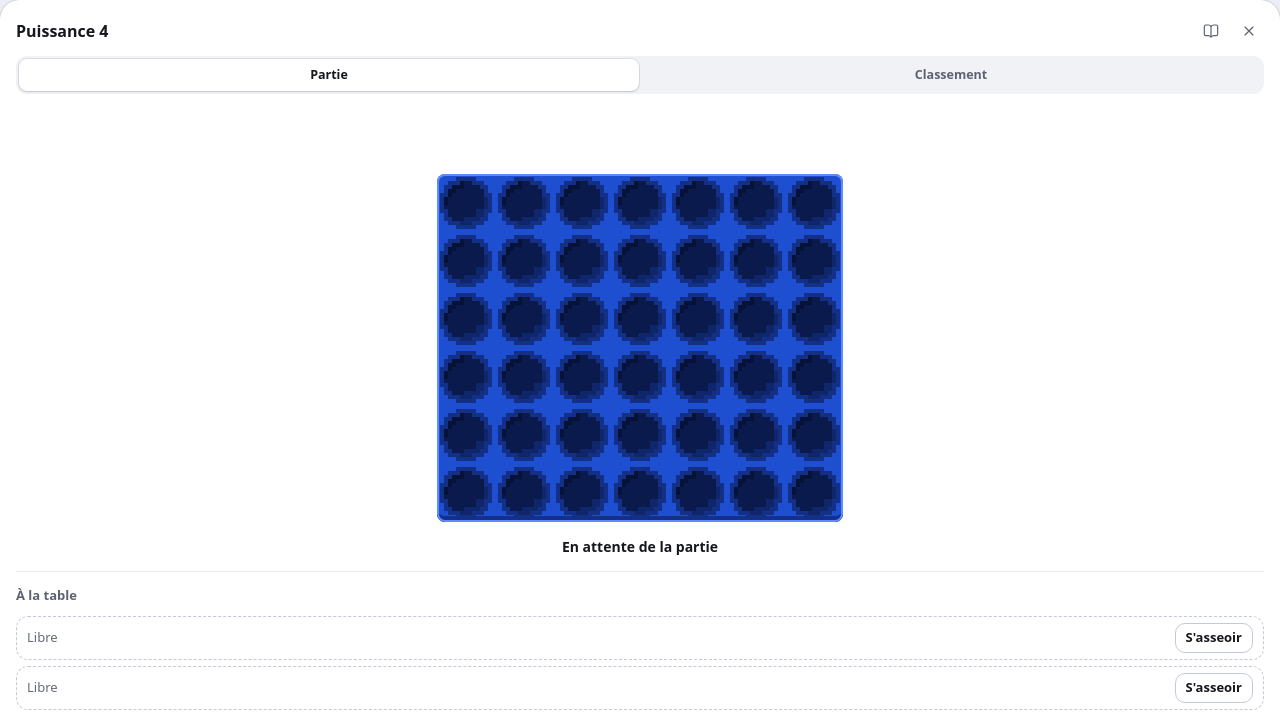
Test: avant la partie › « Règles » ouvre l'aide du Puissance 4, écrite par le jeu
Expected: the element named "Colonnes" is shown, [437,116,843,522]
Click the button named "Règles" at (1211, 31), box [1196,16,1226,46]
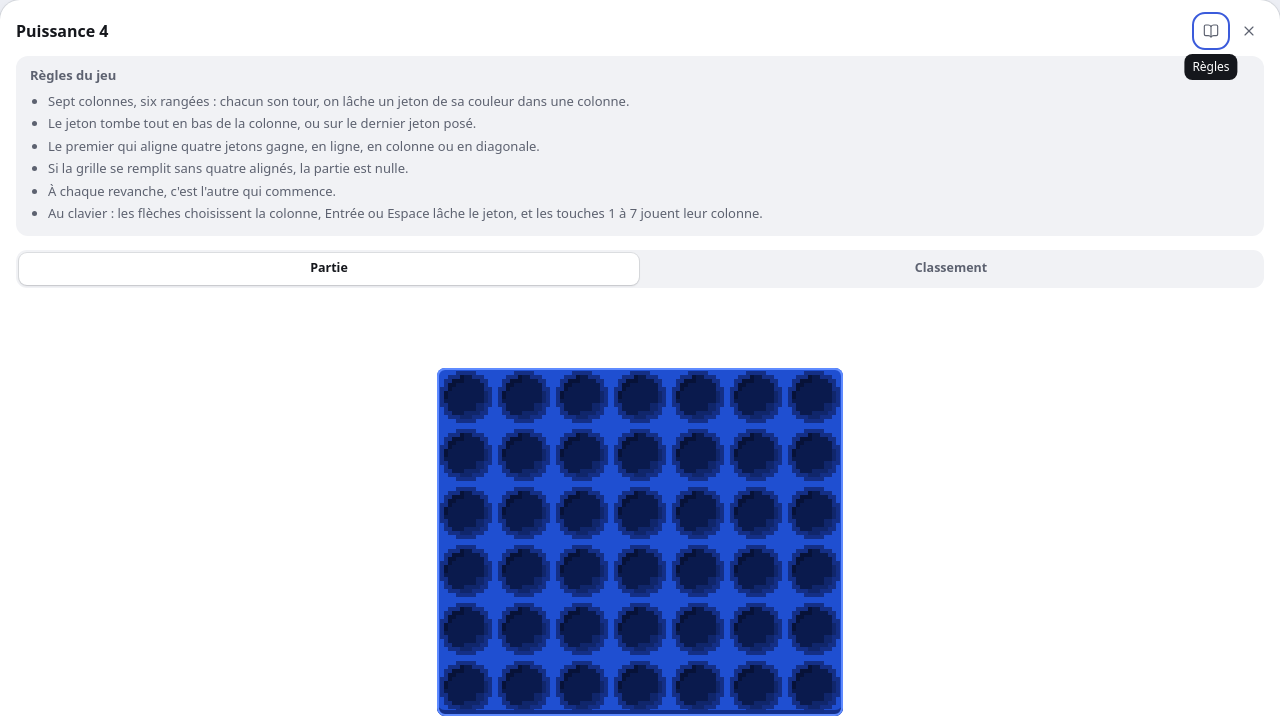
Expected: the element "Règles du jeu" shows "quatre", [48,136,540,154]
